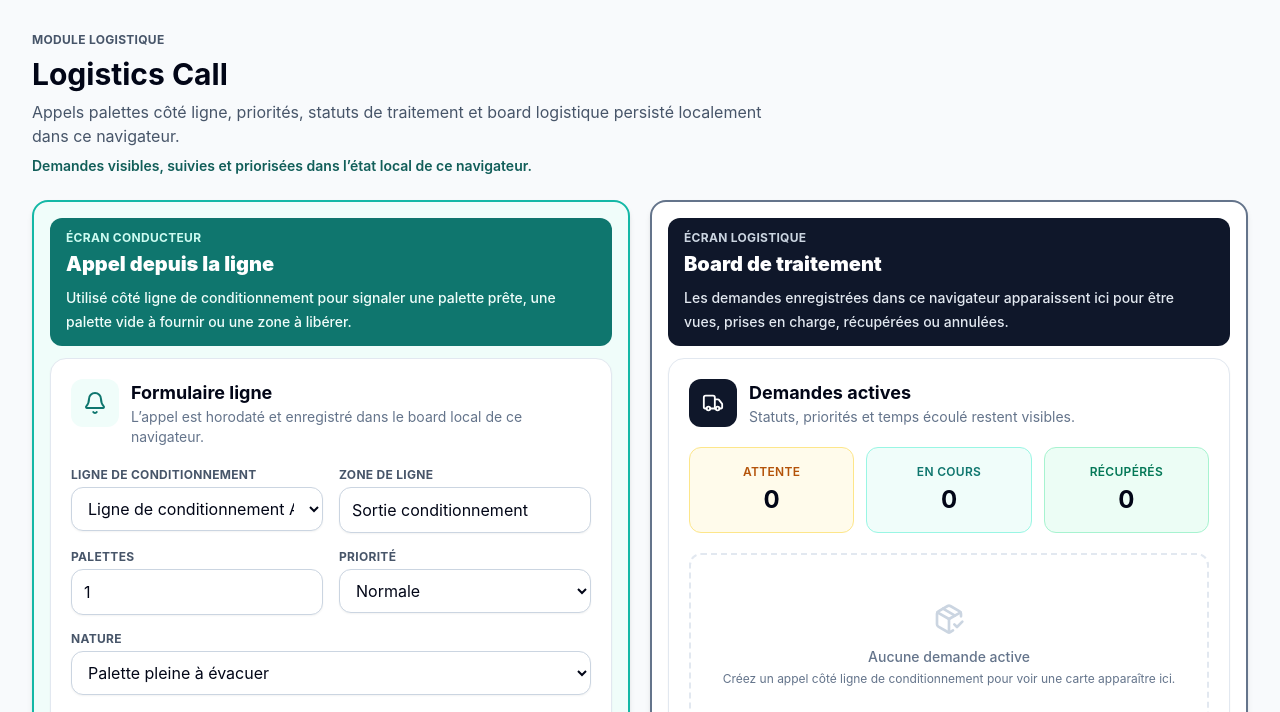
Test: Logistics reliable persistence › T12/T21: retry after one failed write persists one stable request and resets only after success
Replace the text in the field labelled "Zone de ligne" with "Zone retry" at (465, 510), box [339,487,591,533]
(page scrolled)
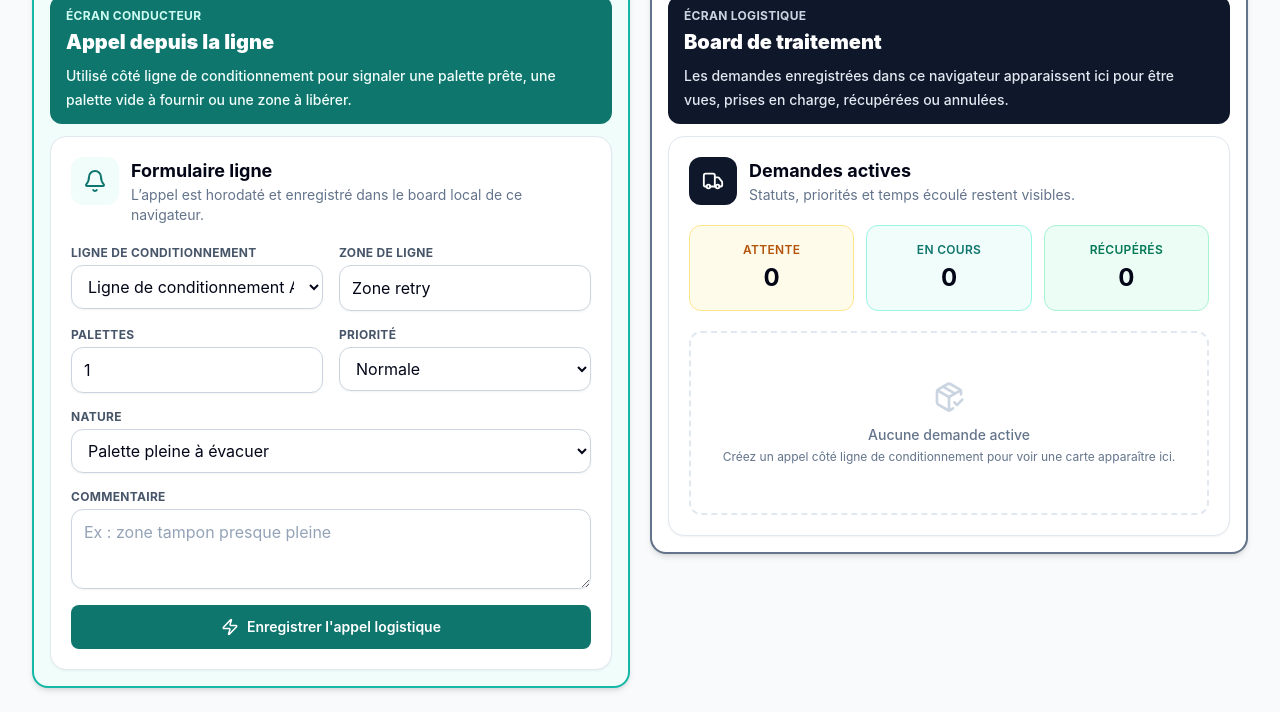
Type "Même opération" into the text box labelled "Commentaire".
click(331, 549); type("Même opération")  # box [71,509,591,589]
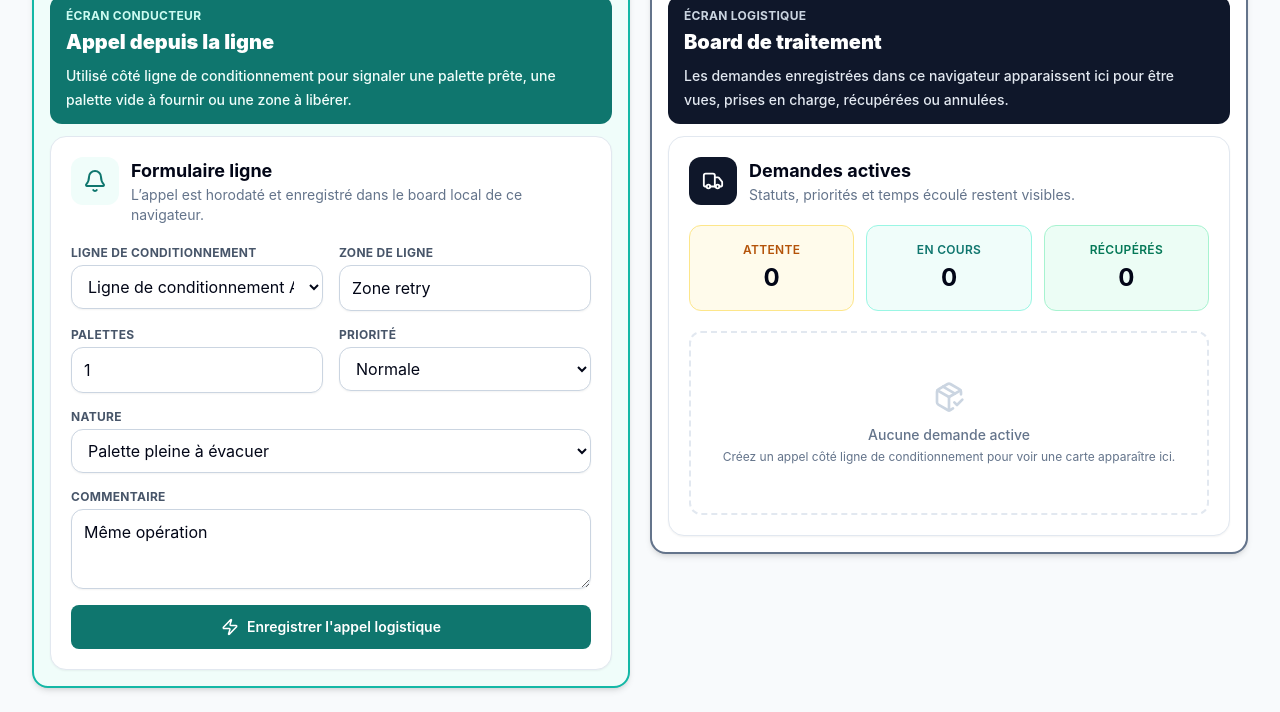
Submit the form named "Enregistrer l'appel logistique", box [71,245,591,649]
Submit the form named "Enregistrer l'appel logistique", box [71,245,591,649]
(page scrolled)
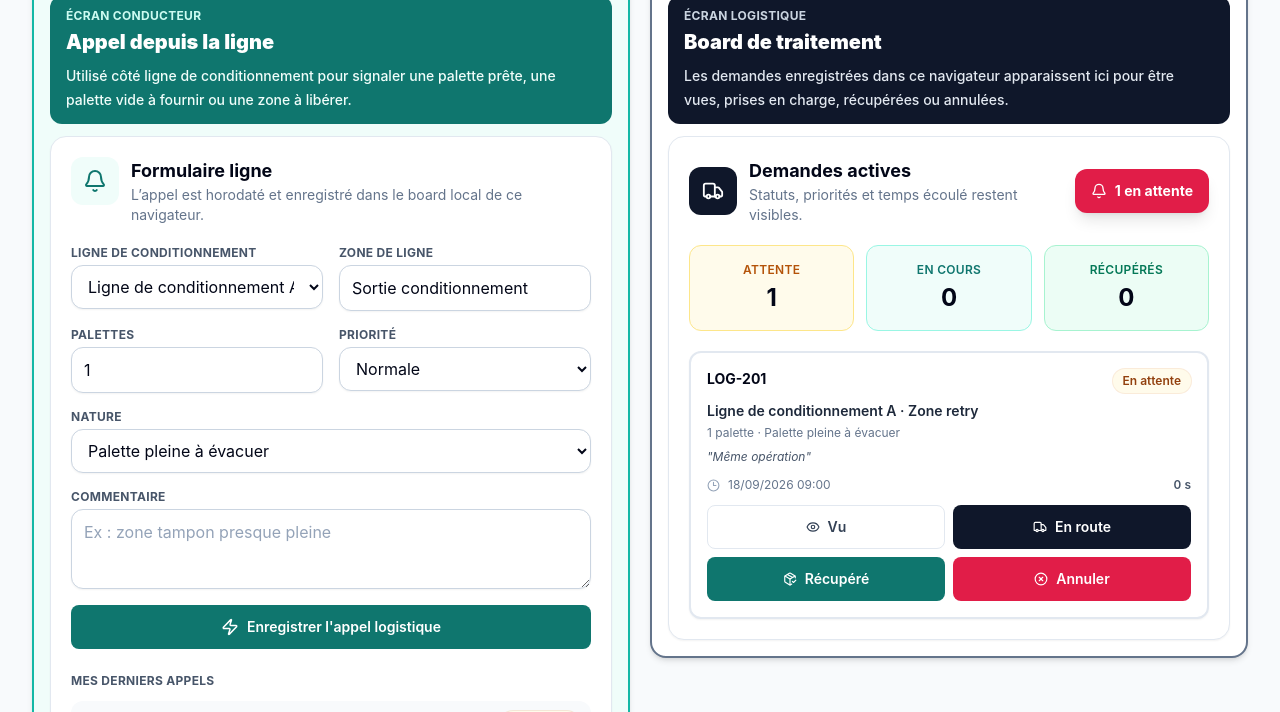
Now the field labelled "Zone de ligne" holds "Sortie conditionnement", box [339,265,591,311]
